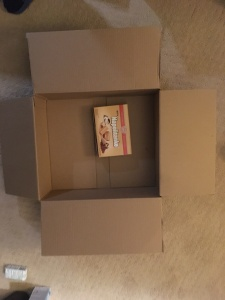innerbox: (32, 93, 160, 198)
outerbox: (1, 32, 215, 255)
product: (94, 105, 130, 156)
